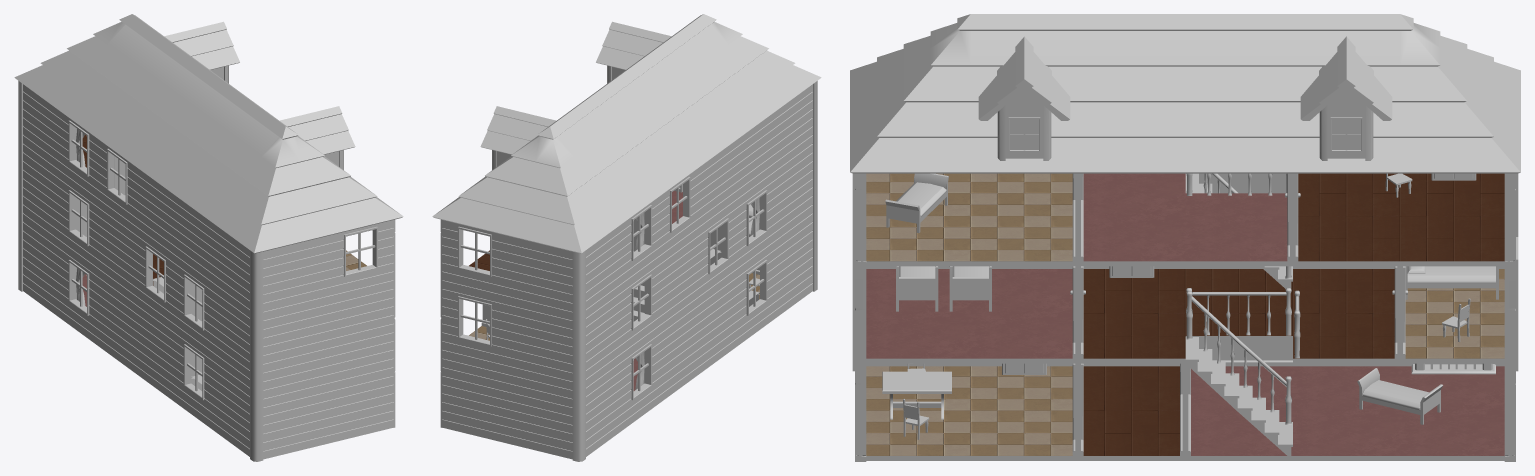
The model's file is Model_House.fbx.
The picture shows the model from 3 angles, left to right: view 1: azimuth 30°, elevation 25°; view 2: azimuth 150°, elevation 25°; view 3: azimuth 270°, elevation 25°; orthographic projection. The views are drawn at different scales.
Visible parts, largest first — view 1: Doll_house_wall03, Doll_house_wall06, Doll_house_wall39, Doll_house_roof11, Doll_house_roof06, Doll_house_roof08, Doll_house_roof09, Doll_house_roof07, Doll_house_wall04, Doll_house_wall21, Doll_house_roof02, Doll_house_wall41 (+22 smaller); view 2: Doll_house_wall24, Doll_house_wall09, Doll_house_wall35, Doll_house_roof12, Doll_house_roof07, Doll_house_roof09, Doll_house_roof06, Doll_house_roof08, Doll_house_wall07, Doll_house_roof10, Doll_house_wall25, Doll_house_wall20 (+22 smaller); view 3: Doll_house_roof03, Doll_house_roof04, Doll_house_roof02, Doll_house_roof10, Doll_house_roof01, Doll_house_roof05, Doll_house_roof_window, Doll_house_roof_window1, Doll_house_floor13, Doll_house_floor24, Doll_house_floor33, Doll_house_floor16 (+59 smaller).
Boxes of the visible parts, box(x1,y1,x2,y2) form: Doll_house_wall03: box(214, 292, 327, 392); Doll_house_wall06: box(214, 362, 327, 461); Doll_house_wall39: box(214, 224, 327, 322); Doll_house_roof11: box(211, 137, 328, 253); Doll_house_roof06: box(57, 24, 163, 136); Doll_house_roof08: box(134, 81, 240, 193); Doll_house_roof09: box(173, 109, 278, 221); Doll_house_roof07: box(96, 53, 201, 164); Doll_house_wall04: box(327, 358, 393, 443); Doll_house_wall21: box(327, 288, 393, 374); Doll_house_roof02: box(289, 136, 403, 235); Doll_house_wall41: box(327, 220, 393, 304); Doll_house_wall24: box(508, 292, 621, 392); Doll_house_wall09: box(508, 362, 621, 461); Doll_house_wall35: box(508, 224, 621, 322); Doll_house_roof12: box(507, 137, 624, 253); Doll_house_roof07: box(595, 81, 701, 193); Doll_house_roof09: box(672, 24, 778, 136); Doll_house_roof06: box(557, 109, 662, 221); Doll_house_roof08: box(634, 53, 739, 164); Doll_house_wall07: box(442, 358, 508, 443); Doll_house_roof10: box(432, 136, 546, 235); Doll_house_wall25: box(442, 288, 508, 374); Doll_house_wall20: box(442, 220, 508, 304); Doll_house_roof03: box(1078, 31, 1185, 173); Doll_house_roof04: box(1185, 31, 1292, 173); Doll_house_roof02: box(850, 29, 970, 173); Doll_house_roof10: box(1400, 29, 1520, 173); Doll_house_roof01: box(970, 31, 1077, 173); Doll_house_roof05: box(1293, 31, 1400, 173); Doll_house_roof_window: box(978, 36, 1070, 160); Doll_house_roof_window1: box(1300, 36, 1392, 160); Doll_house_floor13: box(1293, 410, 1400, 460); Doll_house_floor24: box(866, 313, 970, 363); Doll_house_floor33: box(1400, 216, 1504, 266); Doll_house_floor16: box(1078, 313, 1185, 363).
Size of the model in its own units: 2.25 by 4.13 by 6.25.
